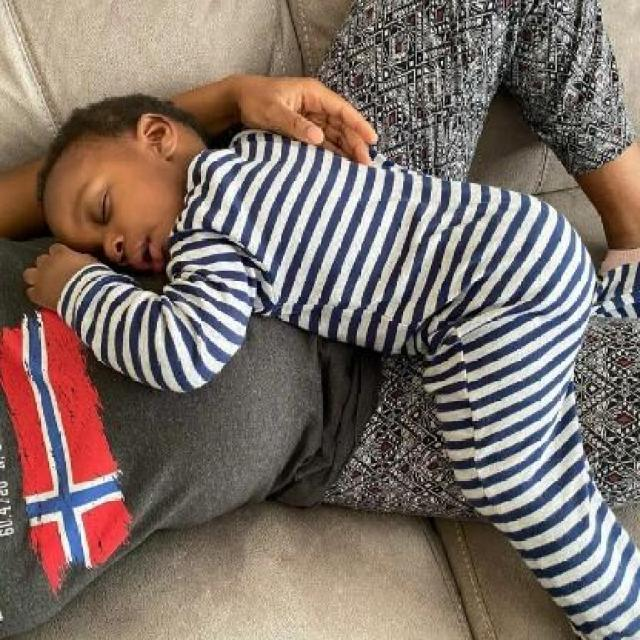baby: (22, 89, 598, 394)
